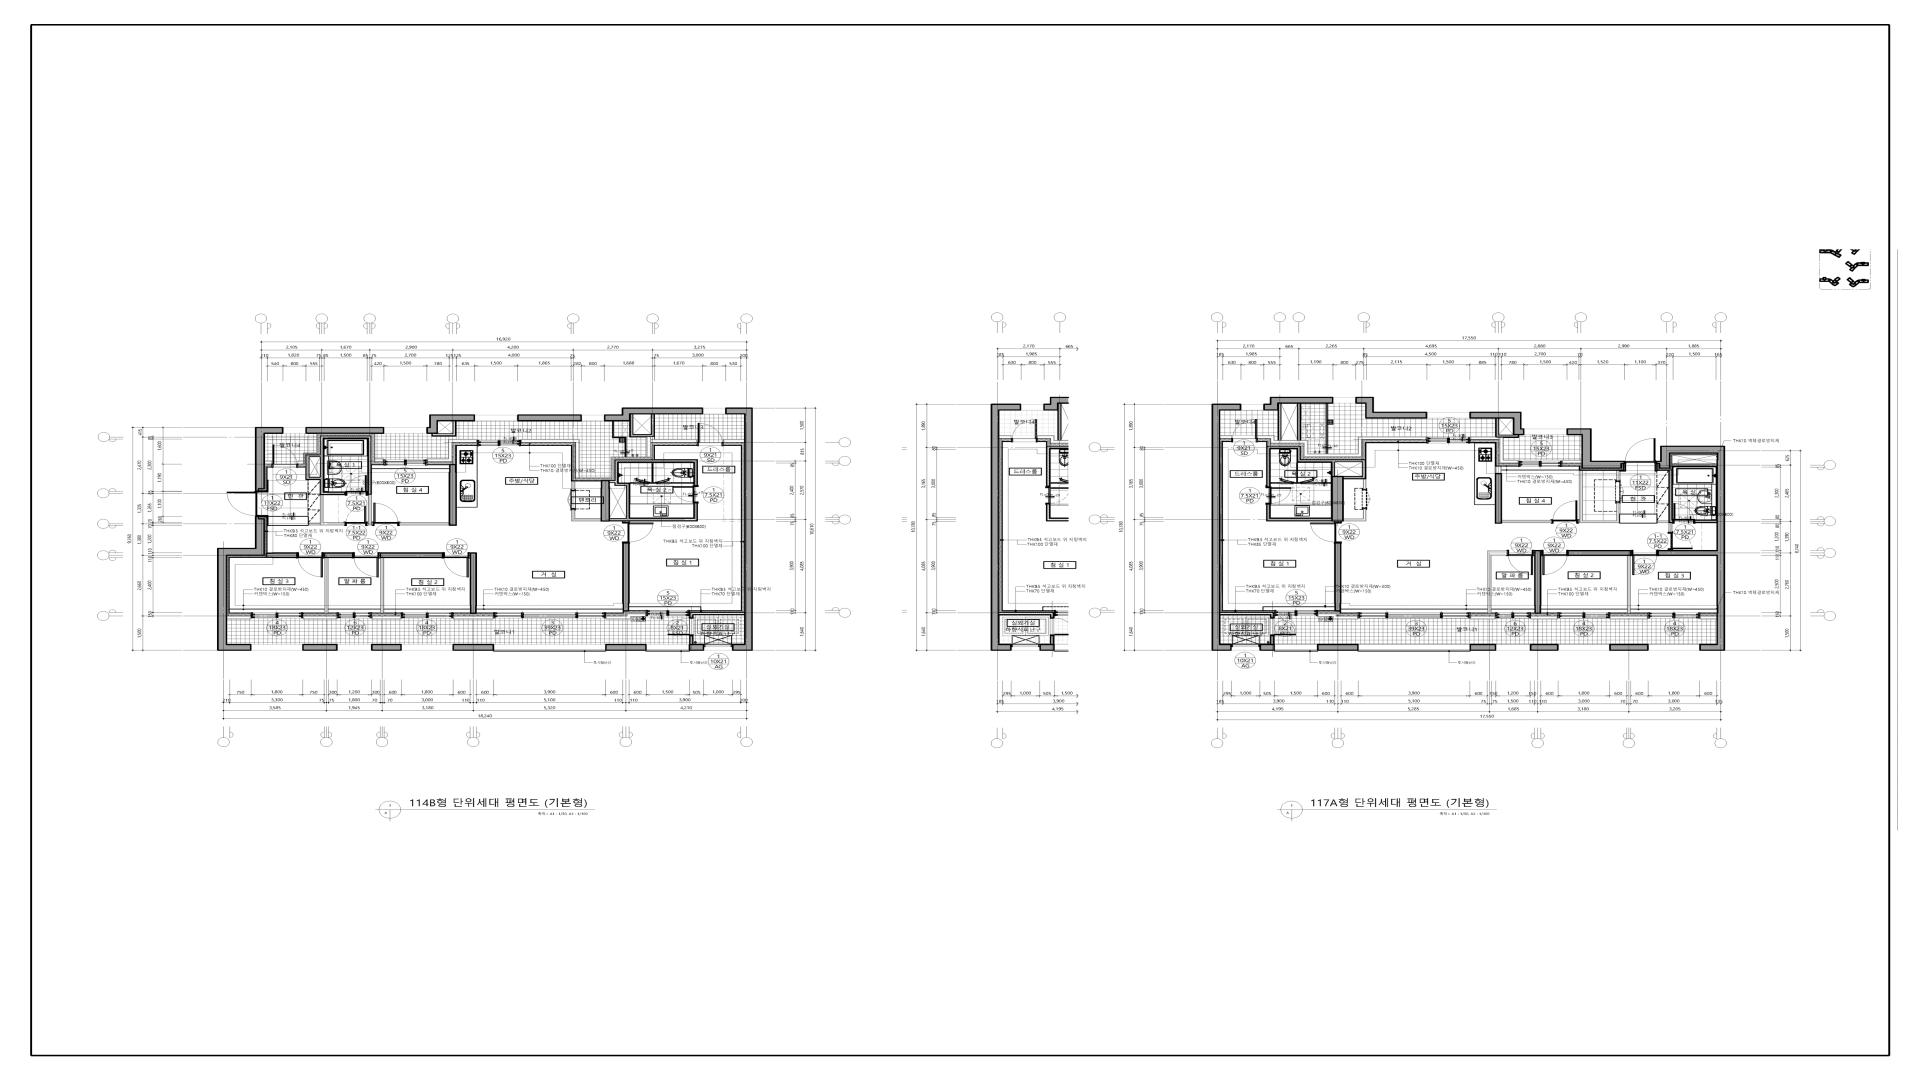door: (1625, 438, 1656, 472), (227, 492, 269, 516), (297, 553, 324, 578), (352, 553, 380, 578), (1542, 550, 1569, 575), (1631, 550, 1659, 575), (1311, 522, 1342, 543), (622, 522, 654, 543), (443, 553, 469, 578), (1507, 550, 1534, 575), (372, 502, 400, 526), (1232, 419, 1258, 443), (272, 444, 298, 468), (1552, 500, 1578, 524), (698, 423, 723, 447), (1266, 487, 1292, 505), (667, 617, 694, 636), (1270, 617, 1296, 636), (345, 475, 368, 496), (674, 485, 699, 504), (345, 506, 368, 526), (1673, 504, 1696, 524), (1668, 533, 1693, 550), (567, 491, 576, 509)
wall: (1656, 446, 1725, 651), (1258, 404, 1427, 458), (1212, 404, 1241, 651), (725, 407, 753, 651), (218, 516, 265, 651), (306, 435, 372, 525), (611, 459, 698, 521), (1266, 446, 1366, 489), (629, 414, 698, 458), (1567, 429, 1625, 468), (521, 439, 579, 479), (1470, 419, 1519, 463), (1580, 471, 1619, 524), (255, 427, 284, 491), (1356, 397, 1427, 418), (604, 407, 703, 422), (1469, 411, 1524, 435), (1487, 551, 1507, 613), (427, 439, 477, 462), (1266, 505, 1331, 521), (1658, 469, 1673, 533), (426, 414, 475, 434), (1263, 397, 1333, 410), (1331, 476, 1344, 522), (622, 543, 630, 612), (306, 427, 384, 434), (517, 414, 582, 422), (469, 553, 477, 615), (448, 464, 456, 526), (1335, 543, 1341, 612), (1535, 550, 1542, 615), (1569, 550, 1631, 556), (601, 481, 611, 522), (431, 422, 456, 436), (571, 509, 600, 521), (380, 553, 443, 558), (452, 644, 495, 651), (605, 644, 647, 651), (1495, 473, 1502, 524), (1317, 644, 1358, 651), (1609, 644, 1648, 651), (690, 612, 744, 617), (1221, 612, 1275, 617), (302, 644, 338, 651), (1317, 613, 1358, 620), (605, 613, 646, 620), (1344, 509, 1366, 521), (371, 644, 402, 651), (1530, 644, 1559, 651), (1627, 556, 1631, 613), (324, 558, 328, 613), (1470, 644, 1497, 651), (1502, 520, 1552, 524), (266, 553, 297, 558), (454, 616, 493, 620), (1610, 616, 1648, 620), (381, 558, 384, 613), (324, 553, 352, 558), (303, 616, 336, 620), (400, 522, 448, 525), (1259, 644, 1275, 651), (688, 644, 704, 651), (1672, 464, 1717, 467), (372, 616, 401, 620), (1531, 616, 1557, 620), (1470, 616, 1495, 620), (227, 616, 251, 620), (723, 439, 744, 443), (1697, 520, 1717, 524), (1700, 616, 1717, 620), (1563, 460, 1581, 463), (458, 522, 476, 525), (1220, 435, 1232, 439), (1495, 467, 1502, 473), (1270, 636, 1275, 644), (571, 481, 575, 491), (690, 636, 694, 644), (1617, 471, 1619, 481), (375, 459, 384, 462), (298, 460, 303, 464), (265, 462, 272, 464)
window: (1358, 612, 1470, 618), (493, 612, 605, 618), (1358, 645, 1469, 651), (495, 645, 605, 651), (1557, 612, 1610, 618), (251, 612, 303, 618), (401, 612, 454, 618), (1648, 612, 1700, 618), (1519, 460, 1563, 467), (646, 609, 690, 616), (384, 459, 427, 465), (477, 440, 521, 447), (1524, 429, 1567, 435), (1275, 645, 1317, 651), (1275, 609, 1317, 616), (1648, 645, 1700, 650), (647, 645, 688, 651), (385, 427, 426, 434), (1559, 645, 1609, 650), (252, 645, 302, 650), (402, 645, 452, 650), (1495, 612, 1531, 618), (336, 612, 372, 618), (1427, 438, 1470, 443), (1427, 413, 1469, 418), (475, 415, 517, 421), (704, 644, 732, 650), (1232, 644, 1259, 650), (1497, 645, 1530, 650), (338, 645, 371, 650), (1333, 397, 1356, 404), (703, 407, 725, 414), (284, 427, 306, 434), (1241, 405, 1263, 410), (582, 415, 604, 421)
